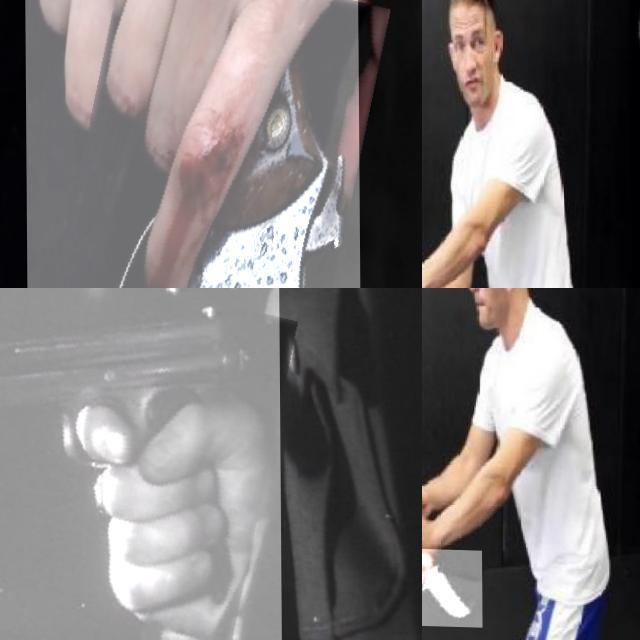-: (422, 546, 481, 625)
gun-knife-thesis - v11 Yolov5 augmented: (0, 288, 281, 640), (25, 0, 361, 288)
